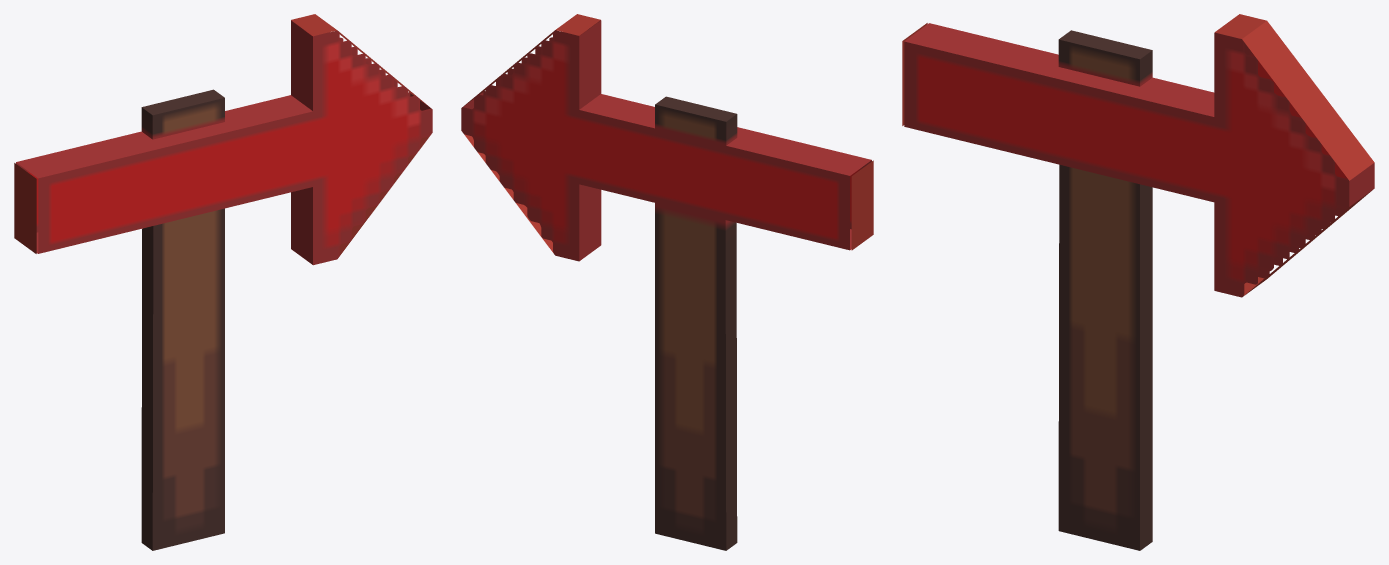
The model's file is Point_Sign_Wood.fbx.
3 views of the same model, side by side, from view 1: azimuth 30°, elevation 25°; view 2: azimuth 150°, elevation 25°; view 3: azimuth 330°, elevation 25° (orthographic). The views are drawn at different scales.
Visible parts, largest first — view 1: objec-2_1500px1.001; view 2: objec-2_1500px1.001; view 3: objec-2_1500px1.001.
Boxes of the visible parts, x1,y1,x2,y2 form: objec-2_1500px1.001: [14, 14, 432, 550]; objec-2_1500px1.001: [461, 14, 873, 550]; objec-2_1500px1.001: [902, 14, 1374, 550].
Size of the model in its own units: 61.57 by 72.25 by 6.
